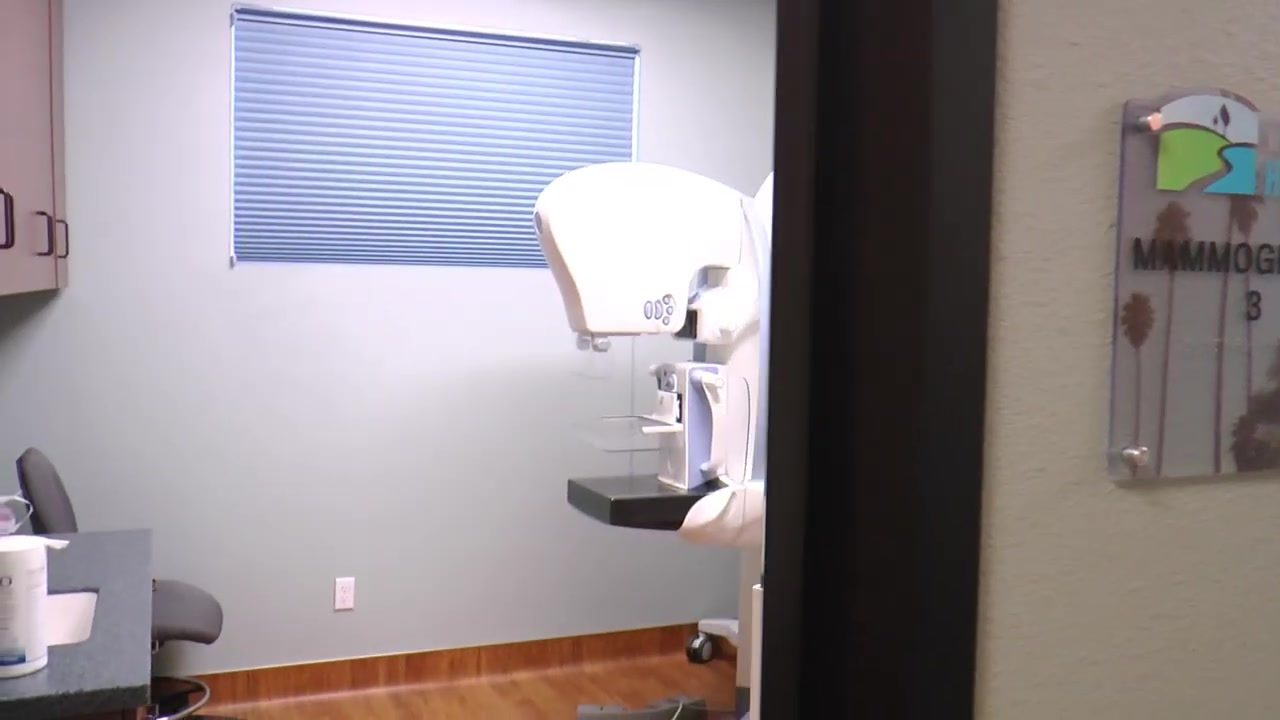chair: (1, 445, 226, 677)
countertop: (1, 527, 158, 720)
handle: (36, 209, 55, 257), (1, 187, 14, 251), (54, 219, 71, 259)
sink: (49, 588, 97, 645)
